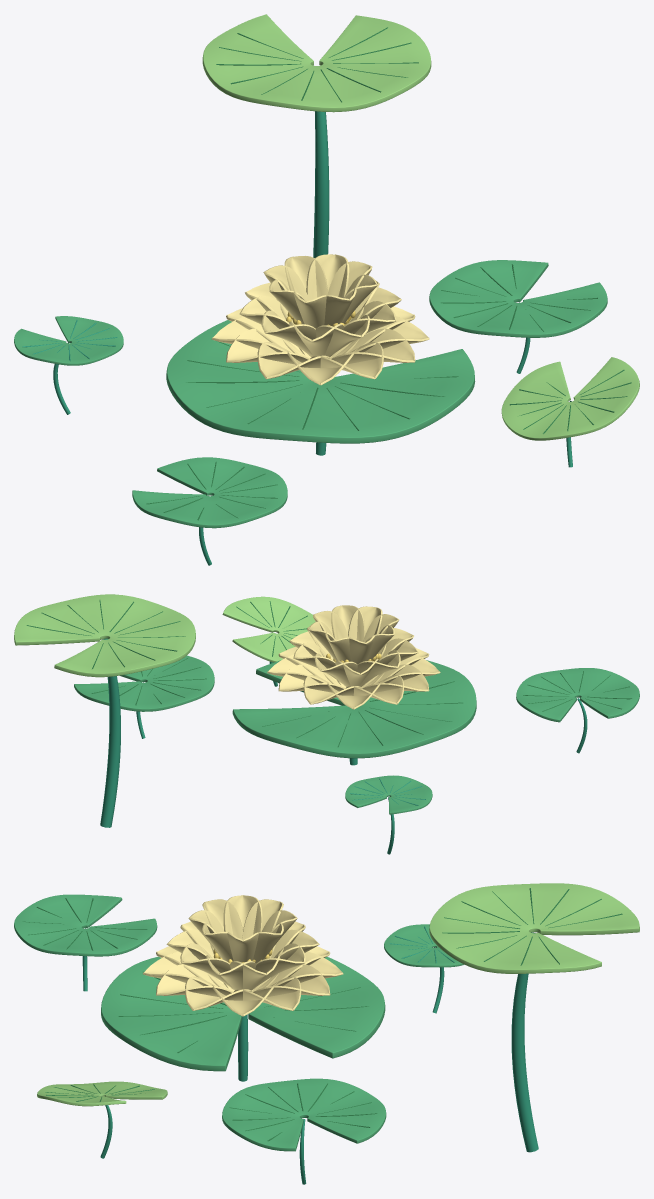
The model's file is lotus_and_lilypads004.glb.
3 views of the same model, one above another, from view 1: azimuth 30°, elevation 25°; view 2: azimuth 150°, elevation 25°; view 3: azimuth 270°, elevation 25° (orthographic). The views are drawn at different scales.
Visible parts, largest first — view 1: LotusPad.006, LilyPad_02.004, LilyPad_01.009, LilyPad_03.004, LilyPad_04.007, LilyPad_05.005, PadStem_02.004, Lotus_Outer_Petal_11.004, Lotus_Outer_Petal_07.004, Lotus_Inner_Petal_02.004, Lotus_Outer_Petal_10.004, Lotus_Outer_Petal_08.004 (+8 smaller); view 2: LotusPad.006, LilyPad_02.004, LilyPad_03.004, LilyPad_01.009, LilyPad_04.007, LilyPad_05.005, PadStem_02.004, Lotus_Outer_Petal_03.004, Lotus_Outer_Petal_07.004, Lotus_Inner_Petal_08.004, Lotus_Outer_Petal_04.004, Lotus_Outer_Petal_06.004 (+16 smaller); view 3: LotusPad.006, LilyPad_02.004, LilyPad_01.009, LilyPad_03.004, PadStem_02.004, LilyPad_04.007, LilyPad_05.005, Lotus_Outer_Petal_03.004, Lotus_Outer_Petal_11.004, Lotus_Inner_Petal_05.004, Lotus_Outer_Petal_12.004, Lotus_Outer_Petal_02.004 (+17 smaller).
Part boxes in pixels (x1,y1,x2,y2): LotusPad.006: (166, 320, 475, 443); LilyPad_02.004: (202, 14, 431, 112); LilyPad_01.009: (429, 260, 607, 337); LilyPad_03.004: (132, 457, 287, 528); LilyPad_04.007: (501, 357, 639, 440); LilyPad_05.005: (14, 316, 123, 365); PadStem_02.004: (313, 111, 329, 257); Lotus_Outer_Petal_11.004: (331, 328, 415, 364); Lotus_Outer_Petal_07.004: (226, 328, 309, 364); Lotus_Inner_Petal_02.004: (306, 254, 349, 300); Lotus_Outer_Petal_10.004: (310, 342, 383, 379); Lotus_Outer_Petal_08.004: (257, 342, 330, 379); LotusPad.006: (232, 660, 476, 758); LilyPad_02.004: (14, 594, 195, 677); LilyPad_03.004: (516, 668, 639, 722); LilyPad_01.009: (74, 655, 214, 711); LilyPad_04.007: (222, 596, 315, 662); LilyPad_05.005: (345, 775, 432, 814); PadStem_02.004: (100, 638, 120, 827); Lotus_Outer_Petal_03.004: (278, 664, 345, 692); Lotus_Outer_Petal_07.004: (362, 664, 429, 692); Lotus_Inner_Petal_08.004: (331, 605, 365, 641); Lotus_Outer_Petal_04.004: (303, 675, 361, 704); Lotus_Outer_Petal_06.004: (345, 675, 404, 704); LotusPad.006: (101, 956, 385, 1071); LilyPad_02.004: (429, 883, 639, 973); LilyPad_01.009: (222, 1078, 386, 1151); LilyPad_03.004: (14, 894, 157, 956); PadStem_02.004: (511, 932, 538, 1152); LilyPad_04.007: (37, 1081, 167, 1106); LilyPad_05.005: (384, 924, 464, 967); Lotus_Outer_Petal_03.004: (253, 964, 330, 996); Lotus_Outer_Petal_11.004: (156, 964, 233, 996); Lotus_Inner_Petal_05.004: (223, 895, 262, 934); Lotus_Outer_Petal_12.004: (185, 976, 252, 1010); Lotus_Outer_Petal_02.004: (233, 976, 301, 1010).
Bounding box in the file's own units: 5.77 × 2.37 × 5.94.
